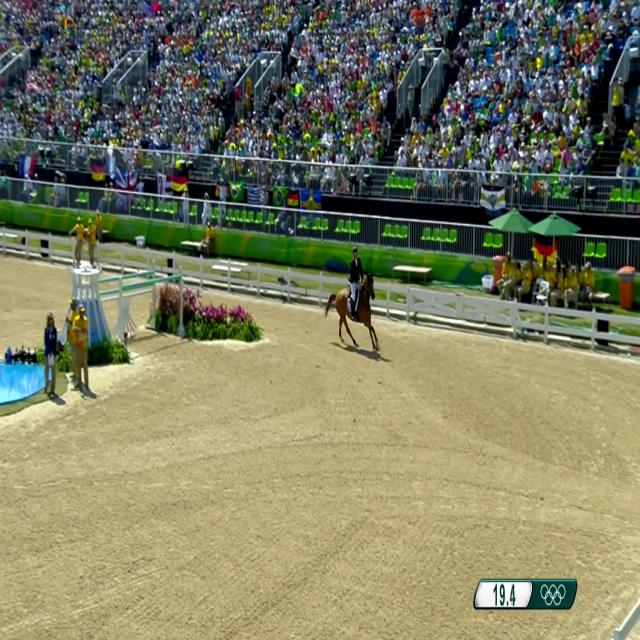Horse Running: (317, 242, 394, 364)
